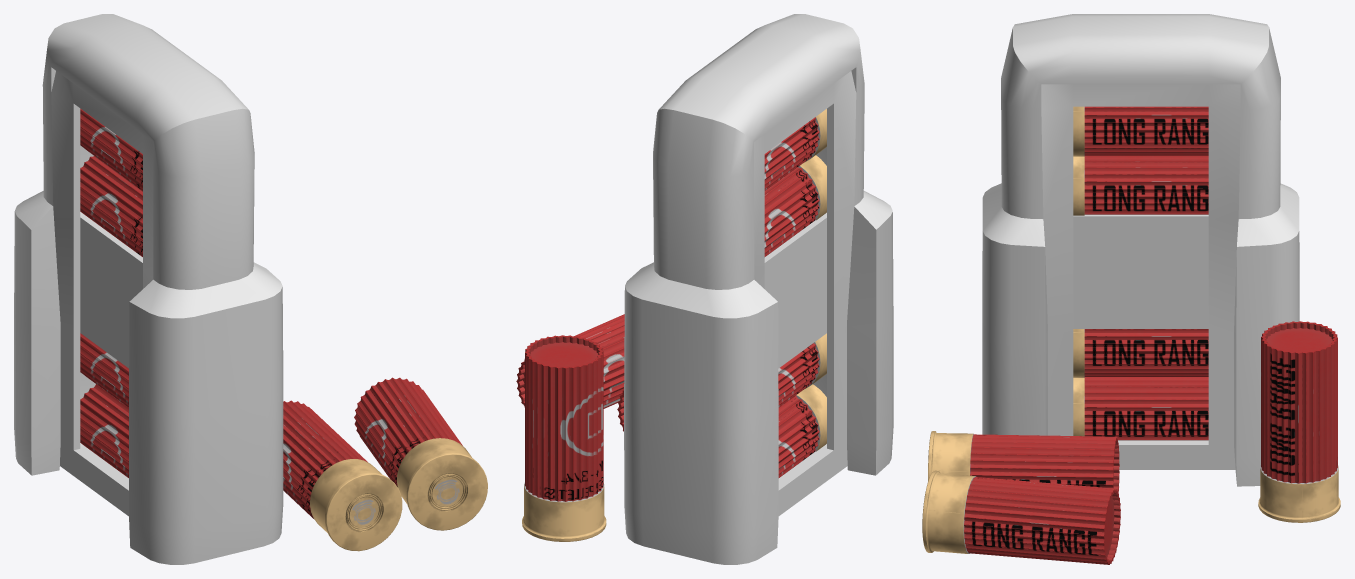
Rendered from Ammo_pickup_shotgun.fbx.
3 views of the same model, side by side, from view 1: azimuth 30°, elevation 25°; view 2: azimuth 150°, elevation 25°; view 3: azimuth 270°, elevation 25° (orthographic). The views are drawn at different scales.
Parts seen in each view (by area): view 1: Ammo_pickup_holder; view 2: Ammo_pickup_holder; view 3: Ammo_pickup_holder.
Part boxes in pixels (left/top/right/bottom): Ammo_pickup_holder: left=14, top=14, right=487, bottom=564; Ammo_pickup_holder: left=516, top=14, right=893, bottom=564; Ammo_pickup_holder: left=922, top=14, right=1340, bottom=564.
Bounding box in the file's own units: 96.95 × 124 × 109.
